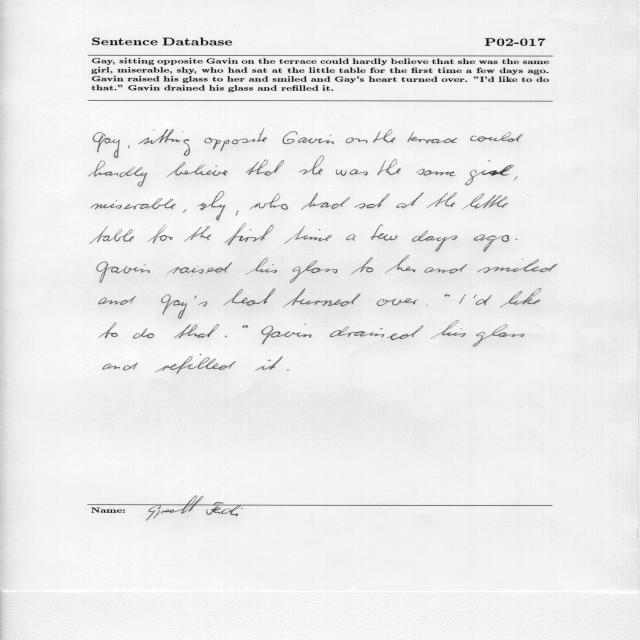word: (155, 354, 236, 374), (283, 288, 360, 308), (89, 161, 148, 187), (204, 129, 267, 152), (138, 129, 190, 156), (282, 131, 334, 158), (330, 325, 423, 340), (465, 160, 514, 185), (97, 261, 150, 283), (161, 294, 207, 319), (473, 325, 525, 347), (477, 259, 558, 273), (290, 260, 338, 283), (224, 224, 274, 246), (261, 324, 312, 345), (412, 231, 457, 252), (91, 198, 176, 209), (167, 162, 227, 177), (224, 289, 275, 306), (284, 226, 332, 244), (198, 191, 226, 221), (301, 193, 350, 210), (90, 226, 134, 244), (167, 262, 232, 274), (500, 289, 541, 308), (462, 193, 508, 209), (93, 132, 120, 158), (174, 324, 219, 339), (431, 320, 466, 339), (246, 159, 284, 176), (250, 193, 288, 210), (474, 234, 509, 252), (385, 255, 416, 274), (408, 132, 458, 143), (245, 258, 277, 275), (354, 194, 390, 209), (470, 132, 523, 142), (426, 193, 457, 209), (148, 225, 173, 244), (396, 193, 424, 209), (372, 224, 398, 241), (185, 226, 212, 242), (299, 158, 324, 175), (255, 356, 283, 371), (351, 257, 373, 275), (425, 264, 468, 273), (377, 159, 401, 175), (99, 296, 136, 305), (377, 298, 418, 306), (373, 129, 395, 143), (100, 323, 118, 339), (416, 169, 456, 176), (103, 363, 138, 371), (133, 328, 154, 339), (336, 169, 368, 176), (474, 295, 492, 306), (346, 137, 367, 143), (346, 234, 356, 241), (459, 294, 466, 304), (514, 176, 518, 181), (445, 293, 450, 297), (242, 325, 248, 328), (183, 209, 187, 213), (236, 210, 238, 216), (128, 145, 130, 148), (225, 336, 227, 338), (516, 239, 518, 240), (287, 370, 289, 371), (427, 305, 428, 306)
